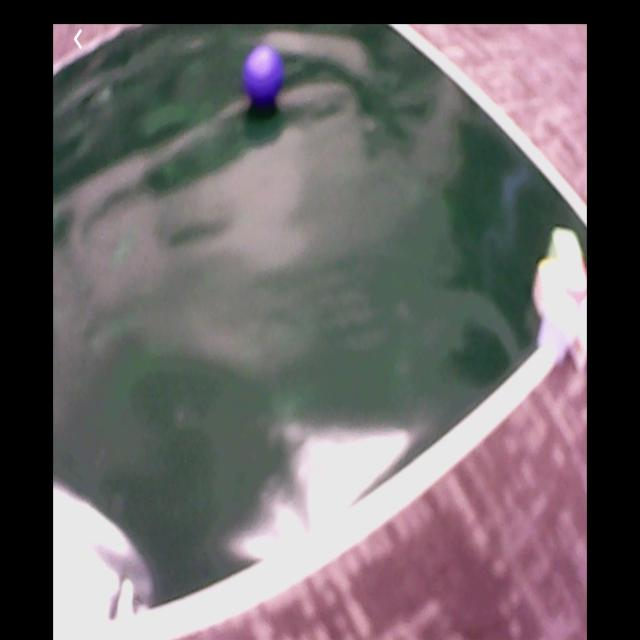ball: (245, 48, 284, 105)
